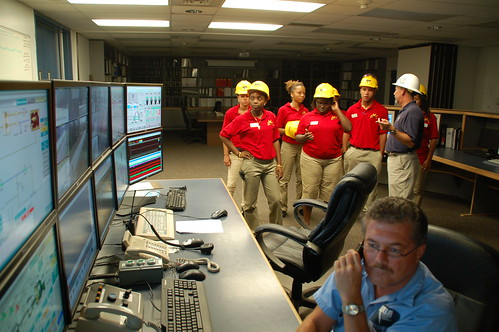person hardhat: (219, 75, 288, 227), (301, 82, 346, 219), (377, 73, 420, 215), (348, 72, 382, 218), (220, 78, 257, 201), (411, 82, 439, 212)
